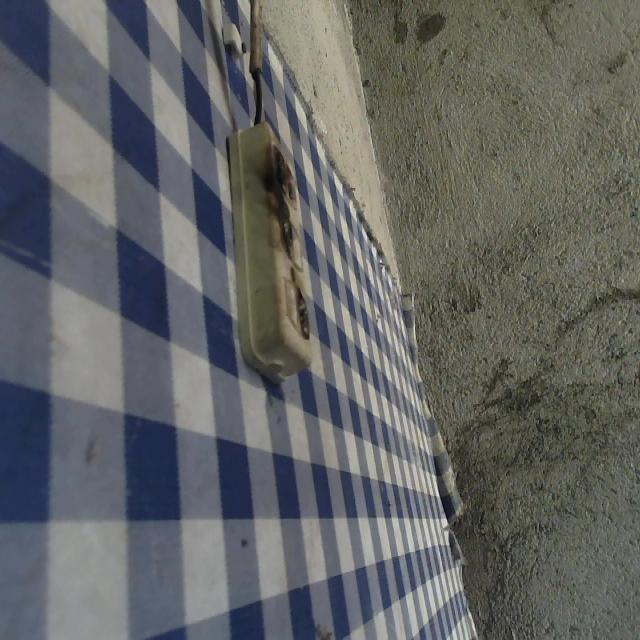-: (273, 143, 297, 204), (293, 278, 309, 342), (276, 209, 295, 259)
